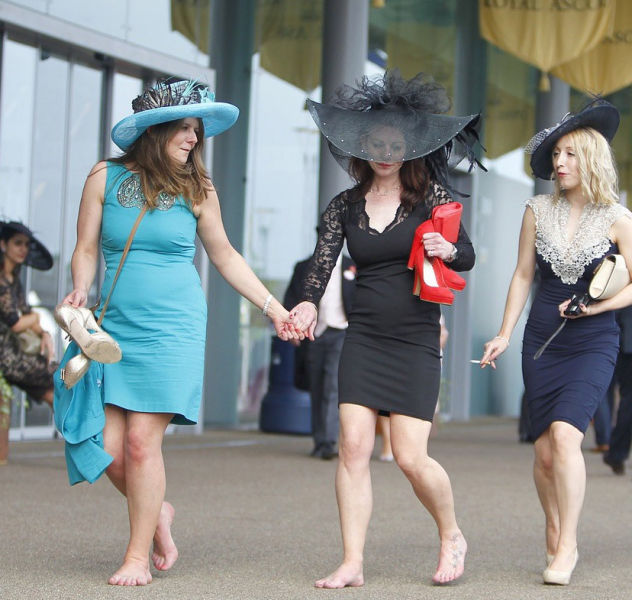Person: (45, 75, 297, 600), (286, 65, 475, 600), (466, 75, 632, 589)
